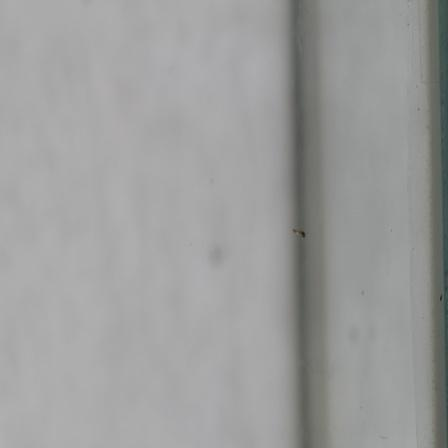Jentik-Nyamuk: (289, 224, 310, 241)
